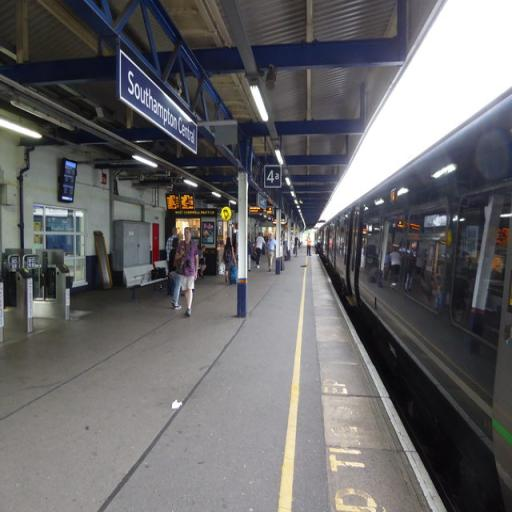platform_edge: (271, 269, 453, 512)
